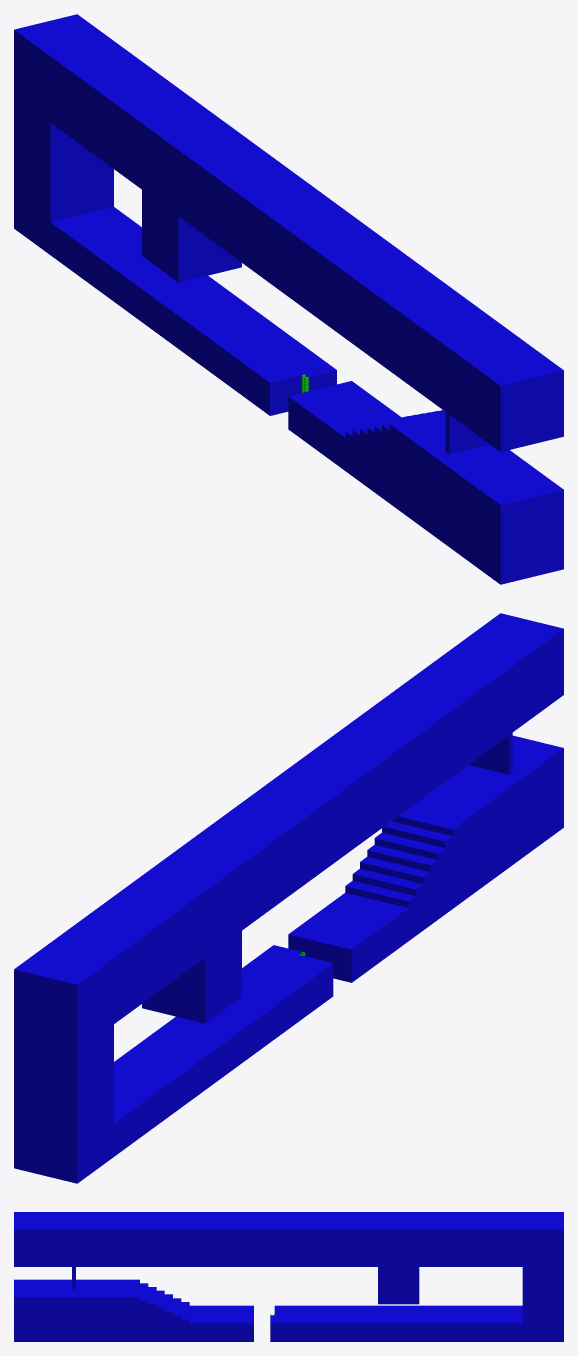
The model's file is Level_3_scene19_colored.fbx.
3 views of the same model, one above another, from view 1: azimuth 30°, elevation 25°; view 2: azimuth 150°, elevation 25°; view 3: azimuth 270°, elevation 25° (orthographic). The views are drawn at different scales.
Parts seen in each view (by area): view 1: area2, Cube.100; view 2: area2, Cube.100; view 3: area2, Cube.100.
Boxes of the visible parts, x1,y1,x2,y2 form: area2: [14, 14, 563, 584]; Cube.100: [142, 190, 241, 282]; area2: [14, 613, 563, 1183]; Cube.100: [142, 931, 241, 1023]; area2: [14, 1212, 563, 1341]; Cube.100: [378, 1267, 419, 1304].
Size of the model in its own units: 1000 by 3000 by 13300.
